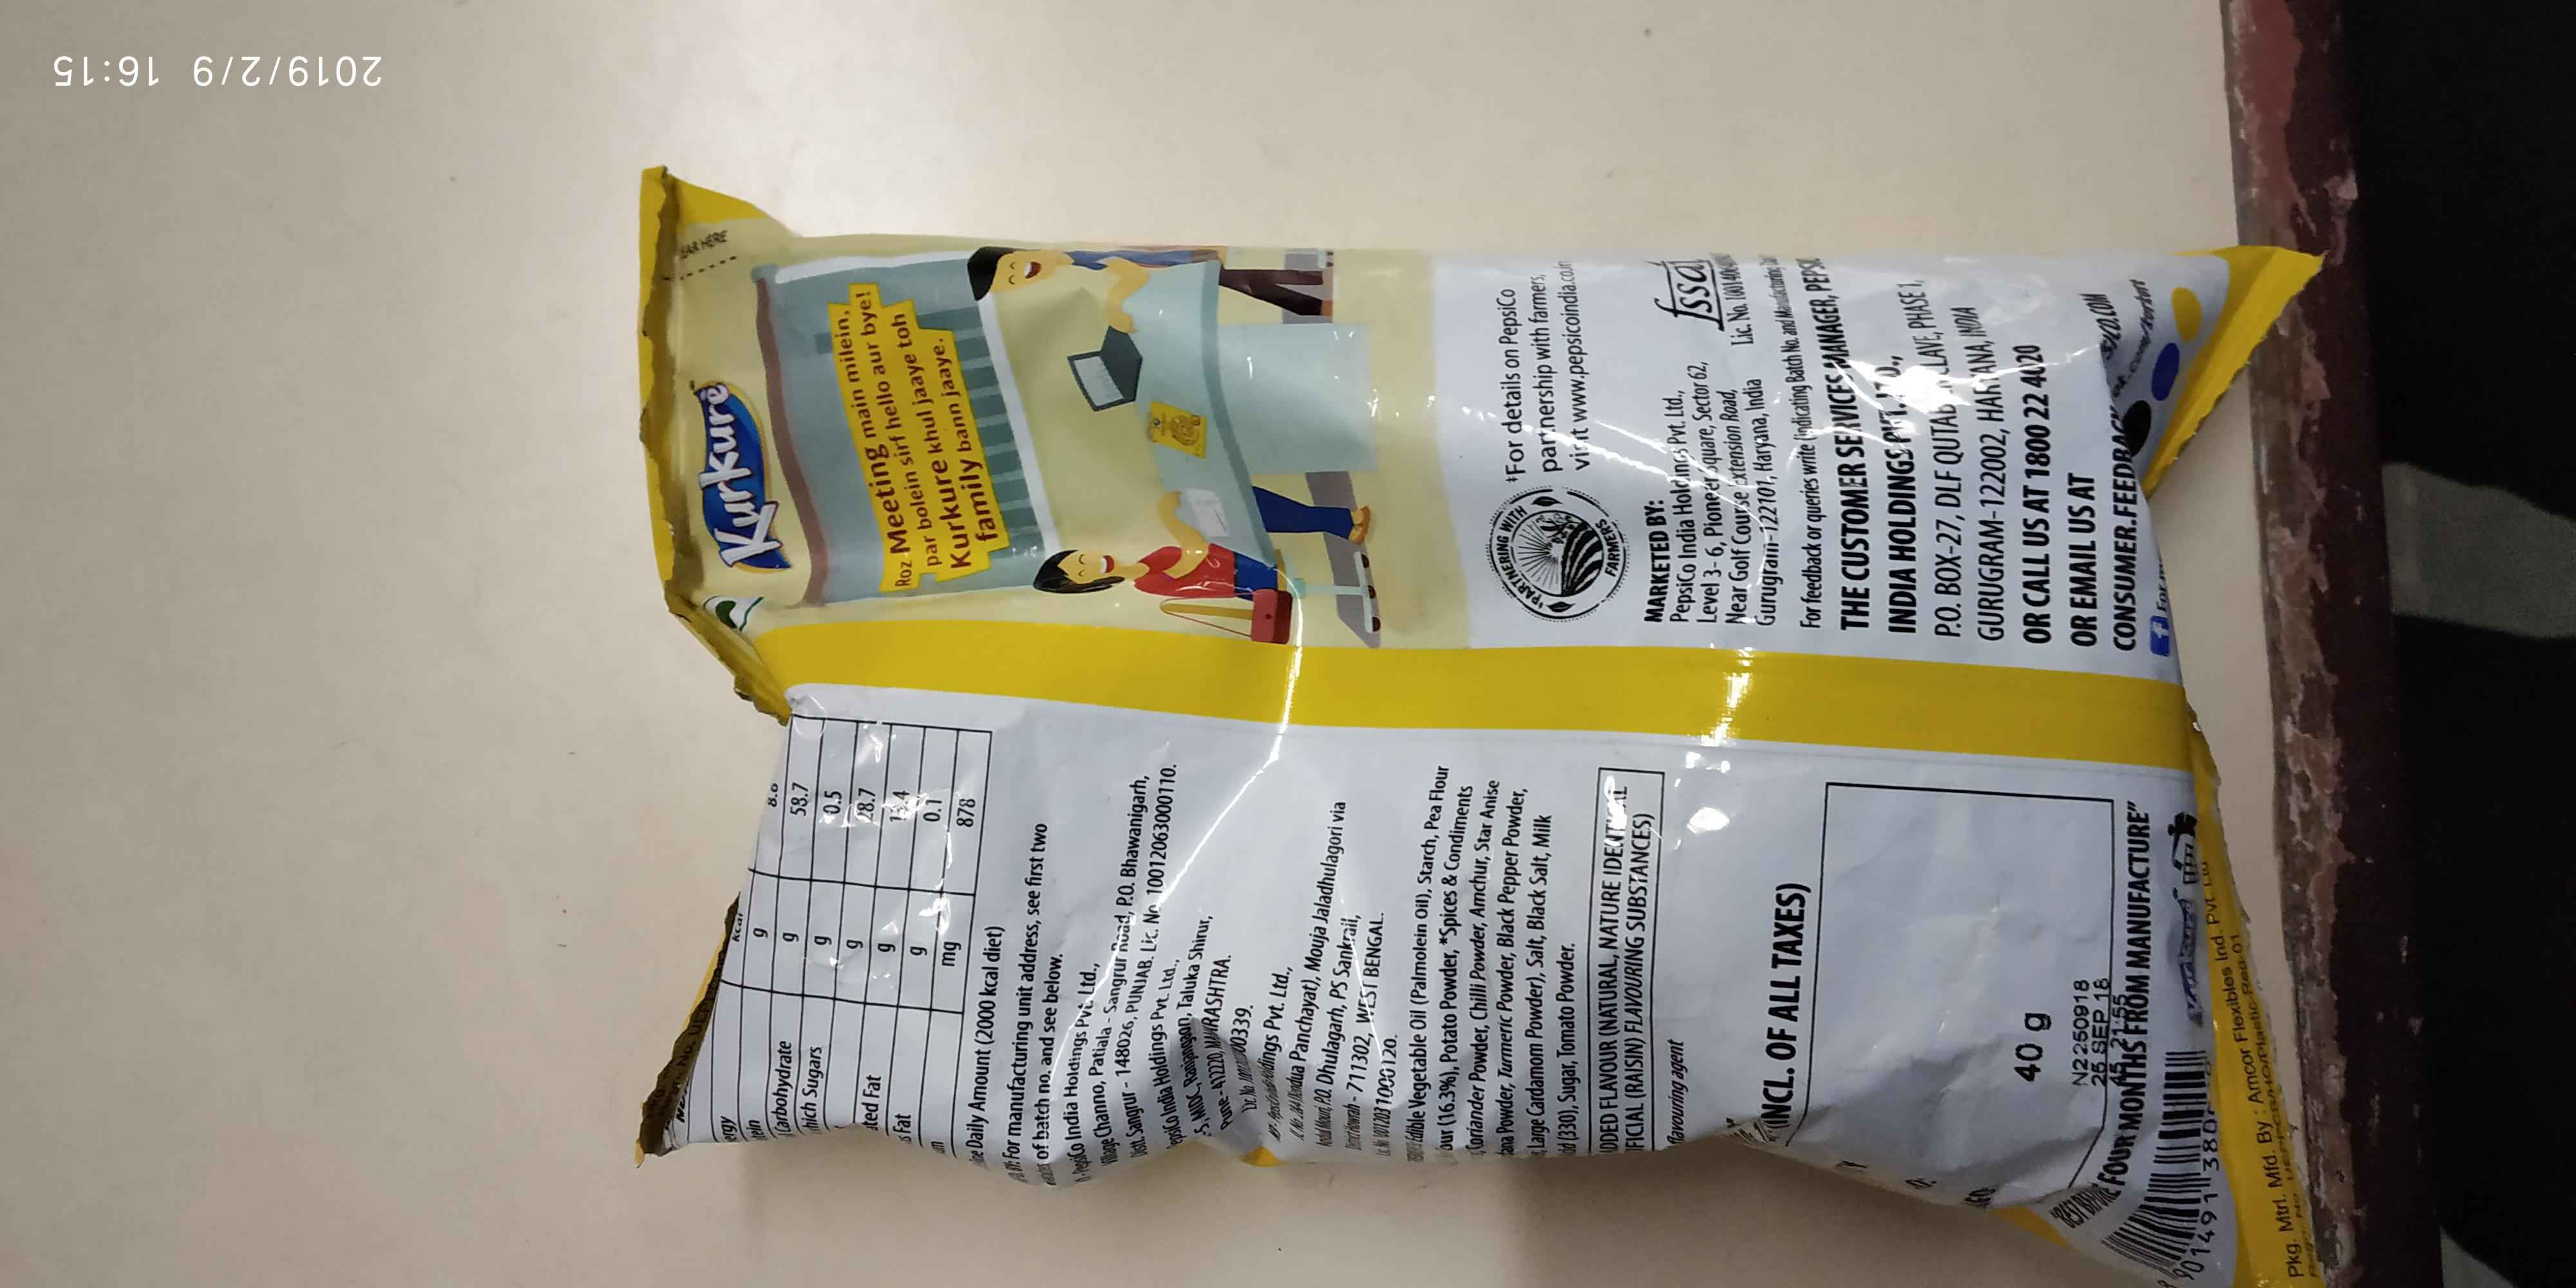kurkure: (674, 337, 798, 593)
